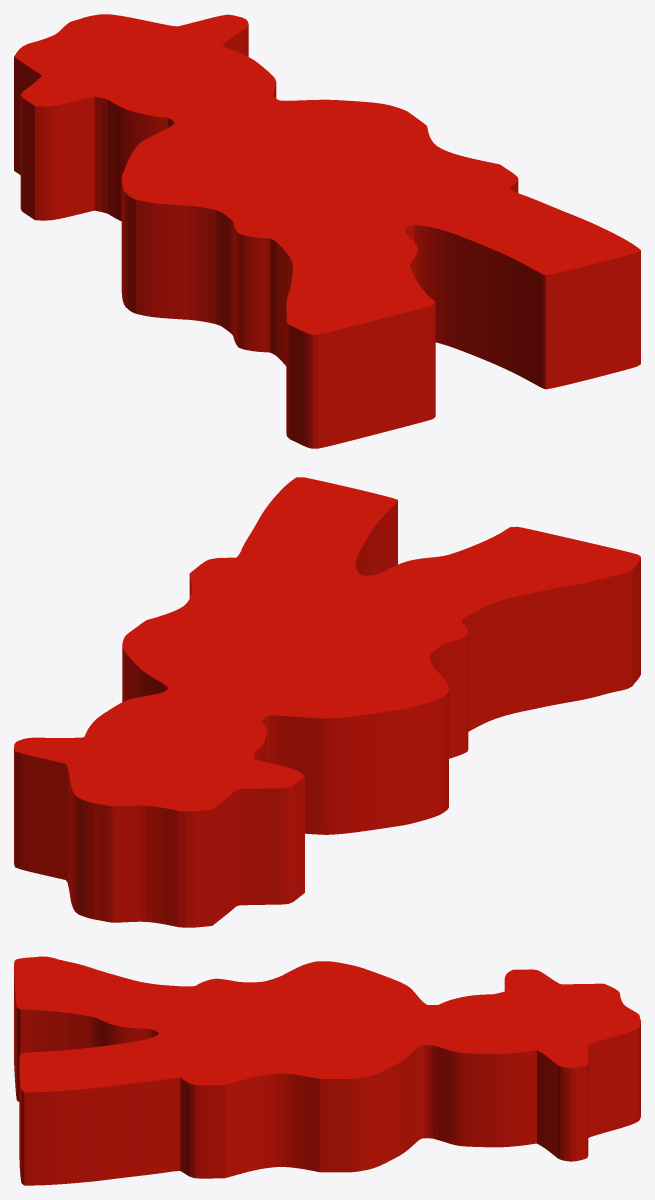
Rendered from PawnBlenderProject.fbx.
3 renders of one model, top to bottom at view 1: azimuth 30°, elevation 25°; view 2: azimuth 150°, elevation 25°; view 3: azimuth 270°, elevation 25°, orthographic. The views are drawn at different scales.
Parts seen in each view (by area): view 1: Curve; view 2: Curve; view 3: Curve.
Part boxes in pixels (x1,y1,x2,y2): Curve: (14, 14, 640, 448); Curve: (14, 477, 640, 927); Curve: (14, 956, 640, 1185).
Size of the model in its own units: 1964 by 629 by 3833.
